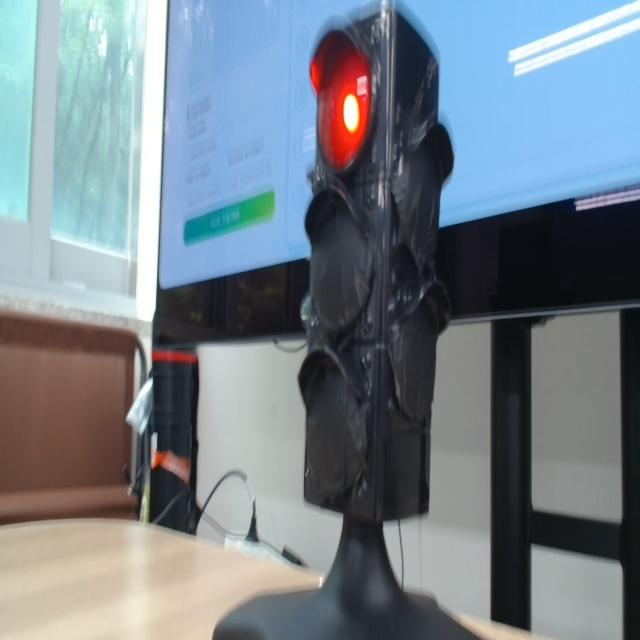red_light: (310, 34, 371, 171)
